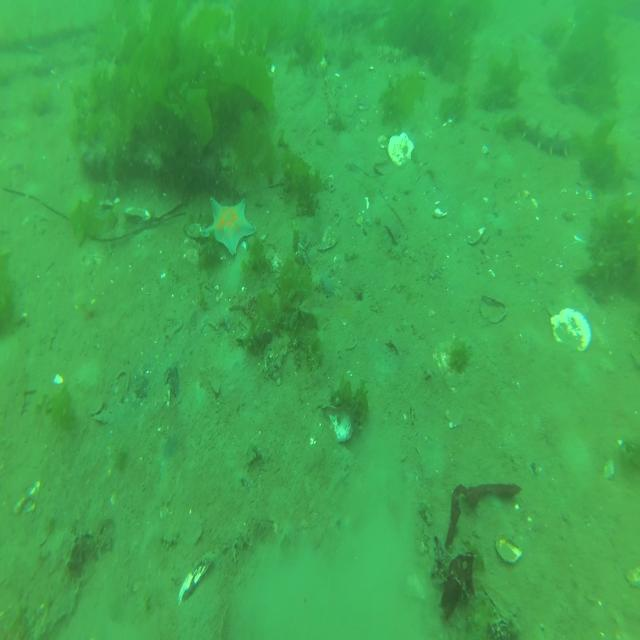holothurian: (522, 117, 574, 158), (376, 43, 408, 67)
scallop: (550, 308, 592, 353), (387, 131, 416, 168)
starfish: (204, 198, 257, 256)
